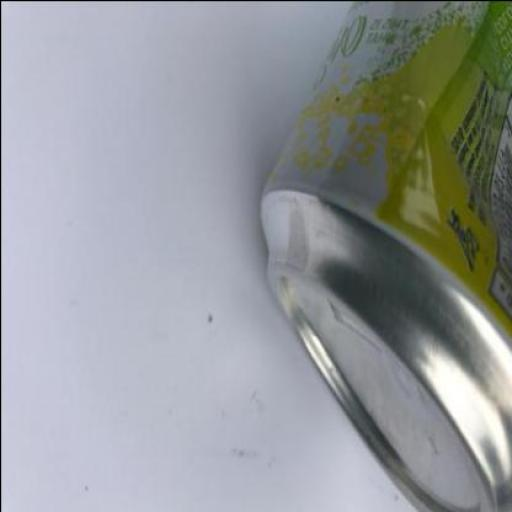metal: (255, 1, 512, 511)
